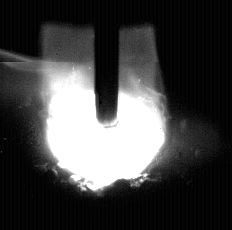arame: (95, 0, 120, 128)
poca: (45, 0, 166, 230)
